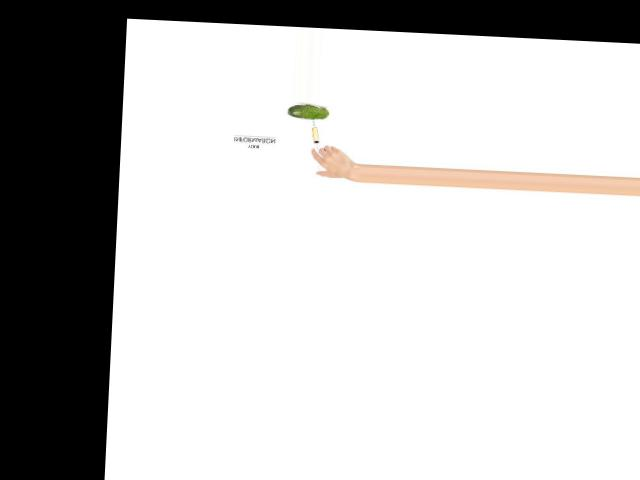cucumber: (287, 104, 330, 120)
